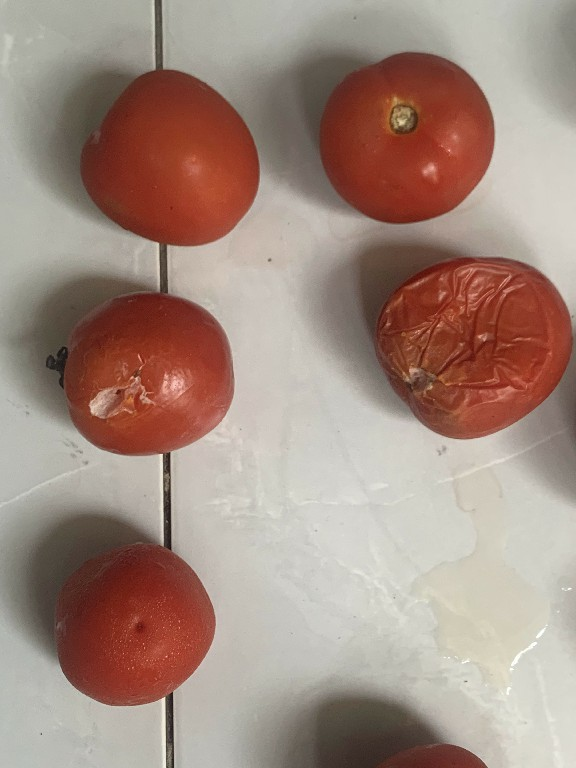NG: (369, 251, 576, 438), (45, 284, 249, 461)
OK: (65, 62, 276, 253), (314, 45, 505, 234), (44, 538, 225, 719)
